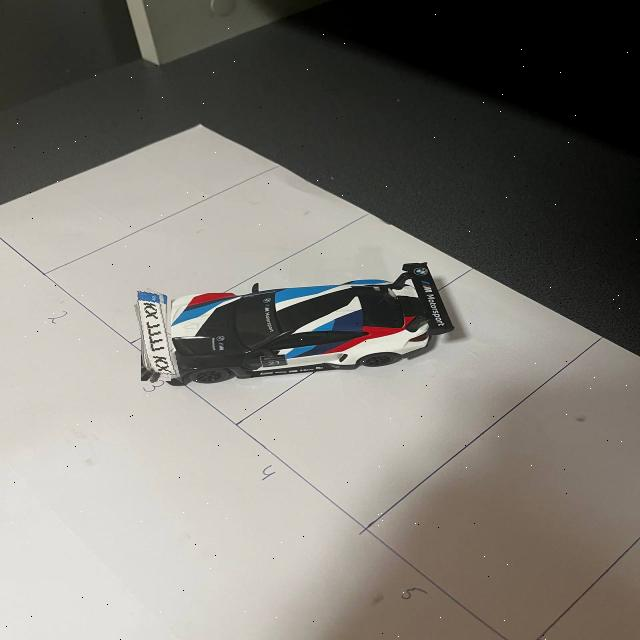KX 7777 KX: (131, 289, 180, 377)
